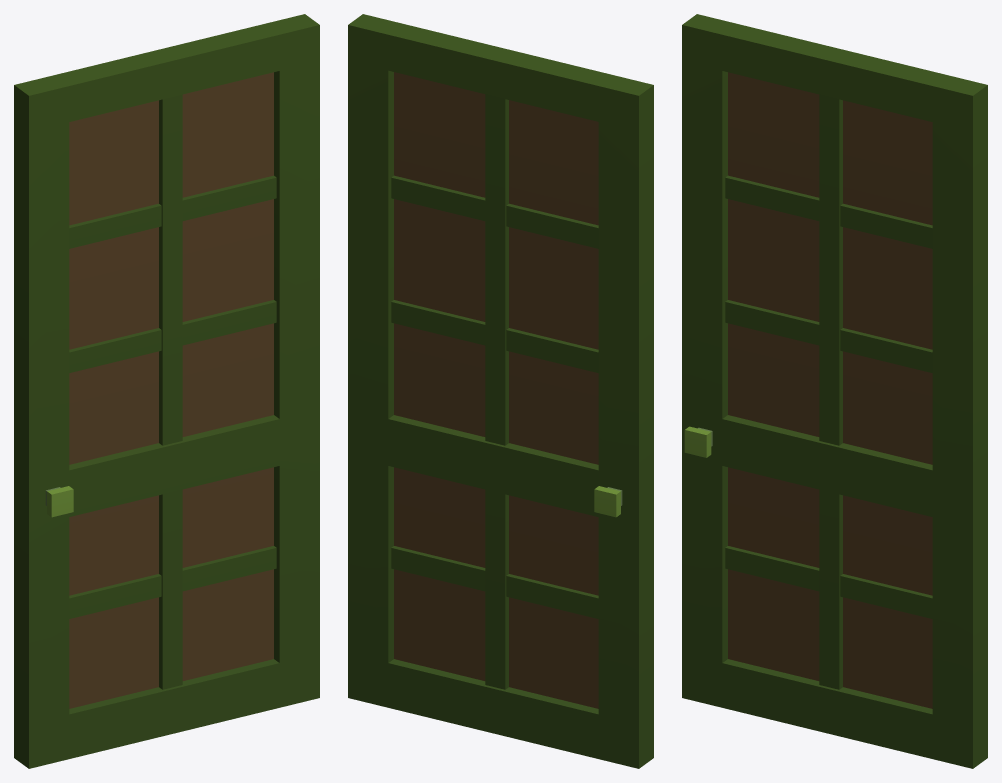
File: Door_05.fbx
3 renders of one model, left to right at view 1: azimuth 30°, elevation 25°; view 2: azimuth 150°, elevation 25°; view 3: azimuth 330°, elevation 25°, orthographic.
Parts seen in each view (by area): view 1: Door_05; view 2: Door_05; view 3: Door_05.
Part boxes in pixels (x1,y1,x2,y2): Door_05: (14, 14, 319, 768); Door_05: (348, 14, 653, 768); Door_05: (682, 14, 987, 768).
Bounding box in the file's own units: 0.9 × 1.99 × 0.1868.
